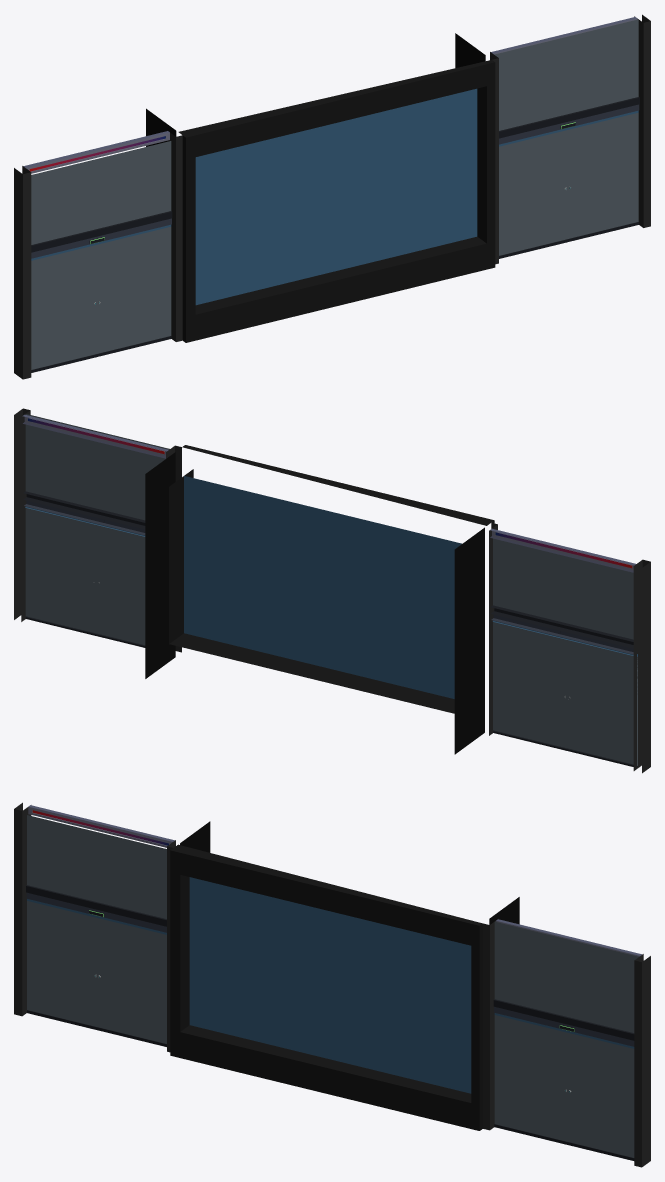
File: Wall_Door_16x5x2_001_L0.fbx
3 renders of one model, top to bottom at view 1: azimuth 30°, elevation 25°; view 2: azimuth 150°, elevation 25°; view 3: azimuth 330°, elevation 25°, orthographic.
Visible parts, largest first — view 1: Wall_Door_16x5x2_001_L0; view 2: Wall_Door_16x5x2_001_L0; view 3: Wall_Door_16x5x2_001_L0.
Part boxes in pixels (x1,y1,x2,y2): Wall_Door_16x5x2_001_L0: [14, 14, 650, 379]; Wall_Door_16x5x2_001_L0: [14, 408, 650, 773]; Wall_Door_16x5x2_001_L0: [14, 802, 650, 1167].
Bounding box in the file's own units: 16 × 1.77 × 5.
